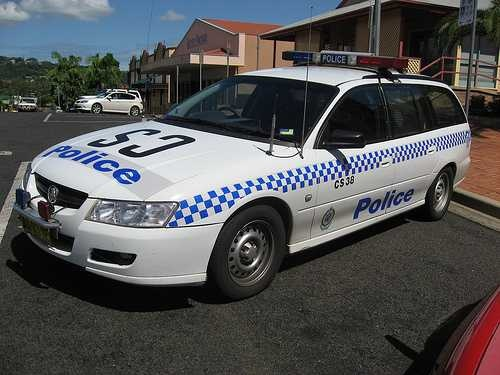Police Car: (10, 50, 475, 295)
